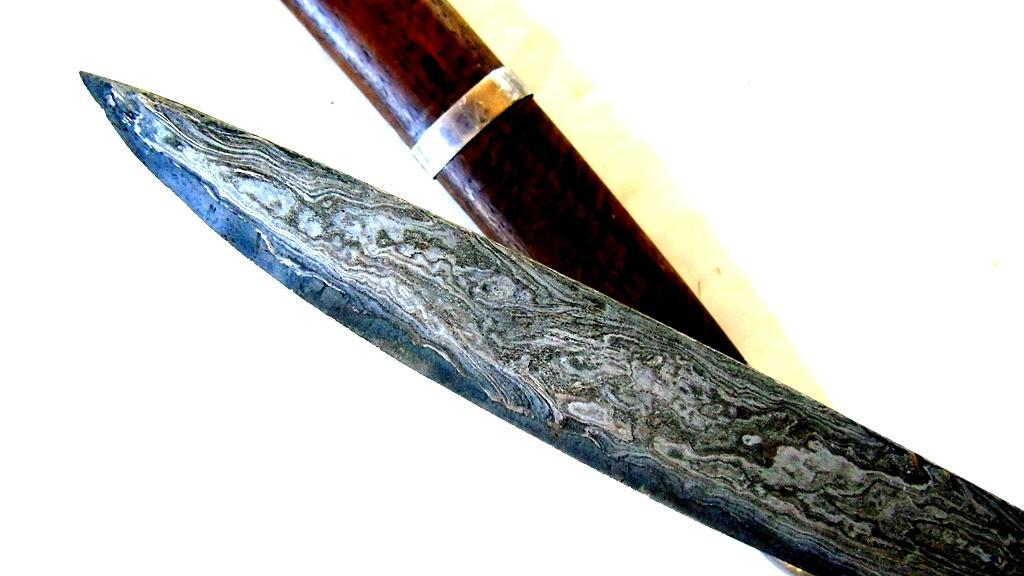faca: (81, 71, 1023, 575)
